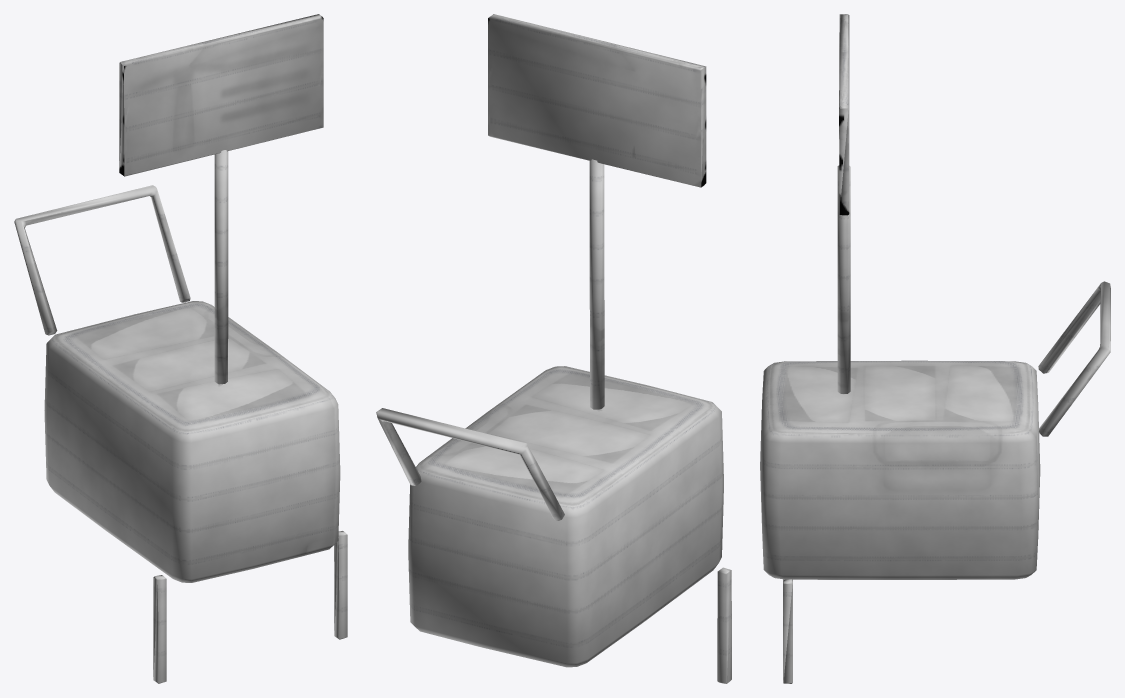
File: CarritoDiarios_C1.fbx
3 views of the same model, side by side, from view 1: azimuth 30°, elevation 25°; view 2: azimuth 150°, elevation 25°; view 3: azimuth 270°, elevation 25° (orthographic). The views are drawn at different scales.
Visible parts, largest first — view 1: Civ_CarritoDiarios_C1; view 2: Civ_CarritoDiarios_C1; view 3: Civ_CarritoDiarios_C1.
Part boxes in pixels (bbox=[...]): Civ_CarritoDiarios_C1: bbox=[14, 14, 347, 683]; Civ_CarritoDiarios_C1: bbox=[376, 14, 731, 683]; Civ_CarritoDiarios_C1: bbox=[760, 14, 1110, 683].
Size of the model in its own units: 2.13 by 6.11 by 3.35.
